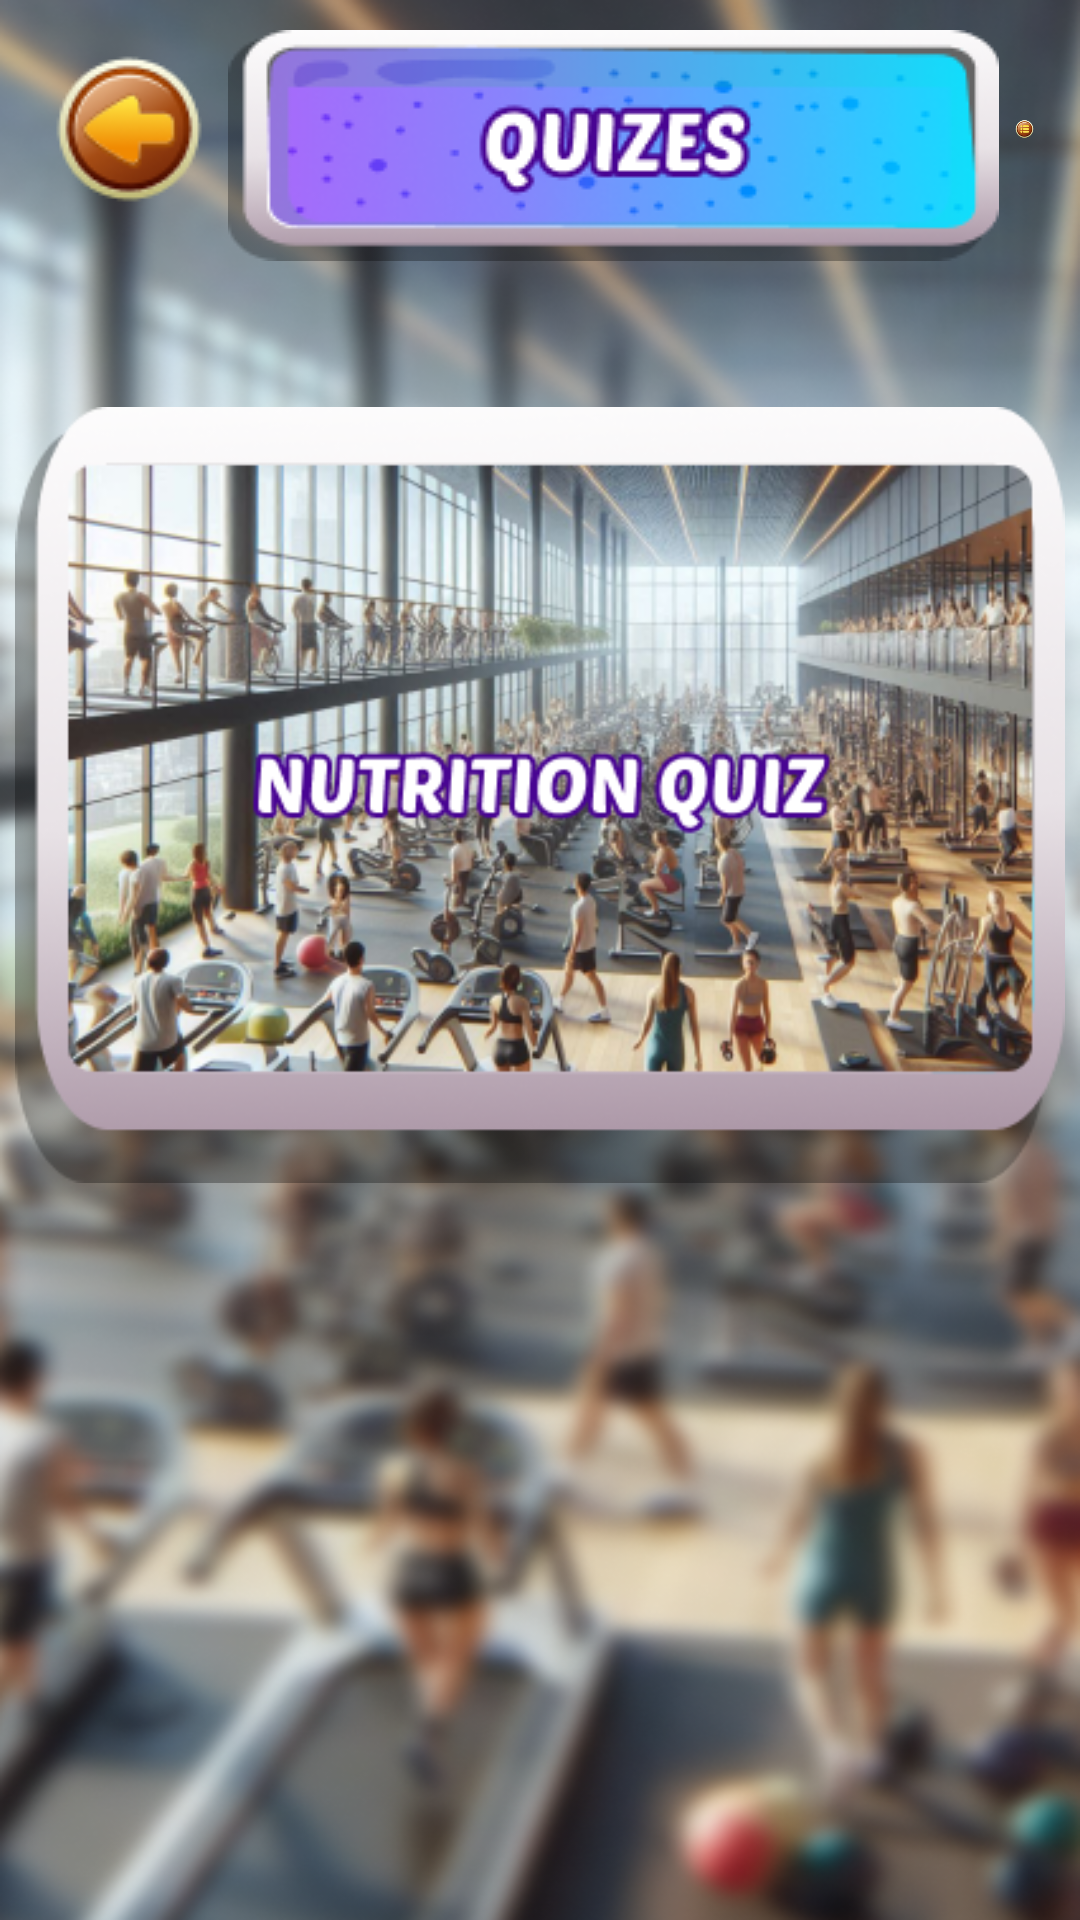

Icons on this 1080*1920 Android screen, each with the point to tap as (x,y):
backbtn: (129,129)
